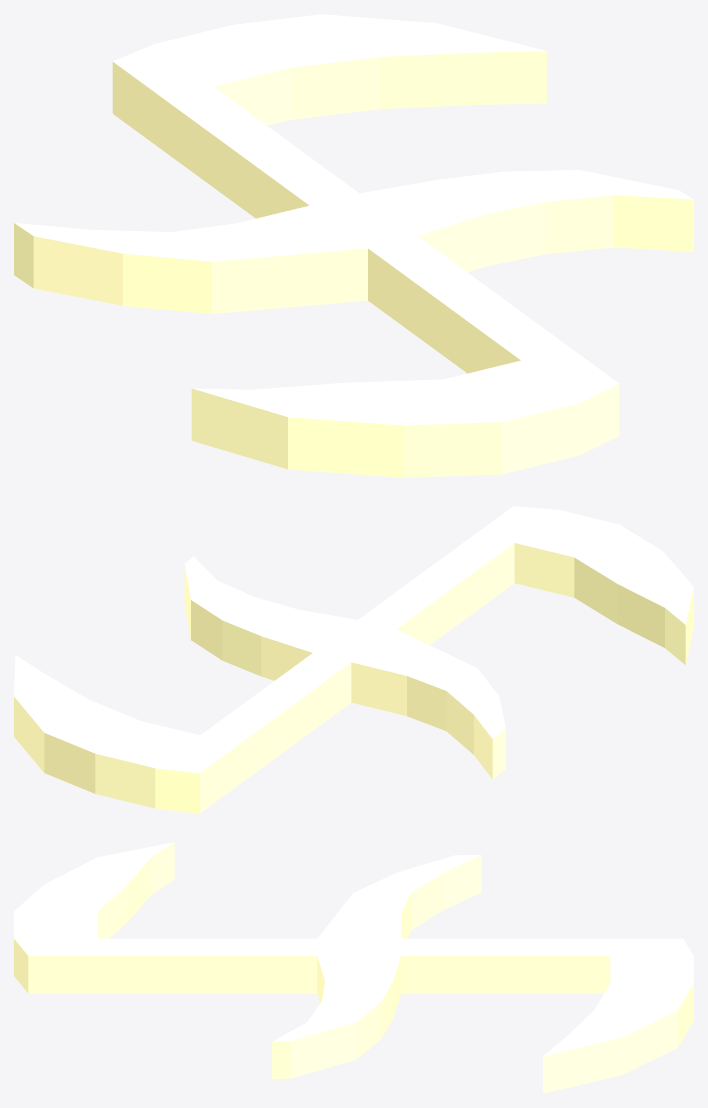
Rendered from Rune.fbx.
3 renders of one model, top to bottom at view 1: azimuth 30°, elevation 25°; view 2: azimuth 150°, elevation 25°; view 3: azimuth 270°, elevation 25°, orthographic. The views are drawn at different scales.
Visible parts, largest first — view 1: Cube; view 2: Cube; view 3: Cube.
Boxes of the visible parts, x1,y1,x2,y2 form: Cube: [14, 14, 693, 477]; Cube: [14, 506, 693, 813]; Cube: [14, 842, 693, 1093].
Bounding box in the file's own units: 647 × 52.81 × 869.
